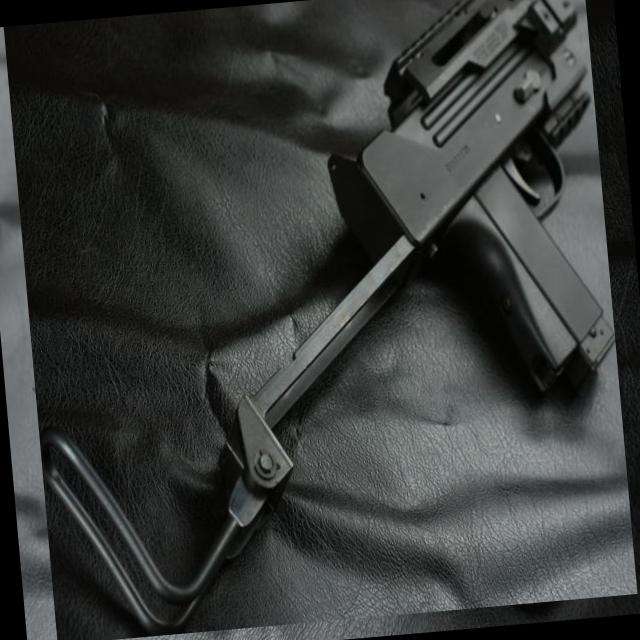Gun: (41, 0, 614, 635)
